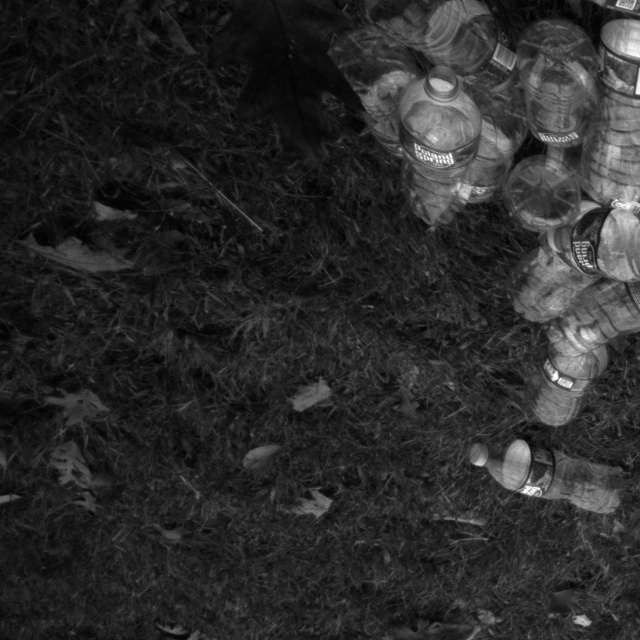bottle: (461, 421, 640, 527), (563, 14, 640, 221), (399, 61, 485, 242), (518, 313, 625, 439), (544, 202, 640, 285)
